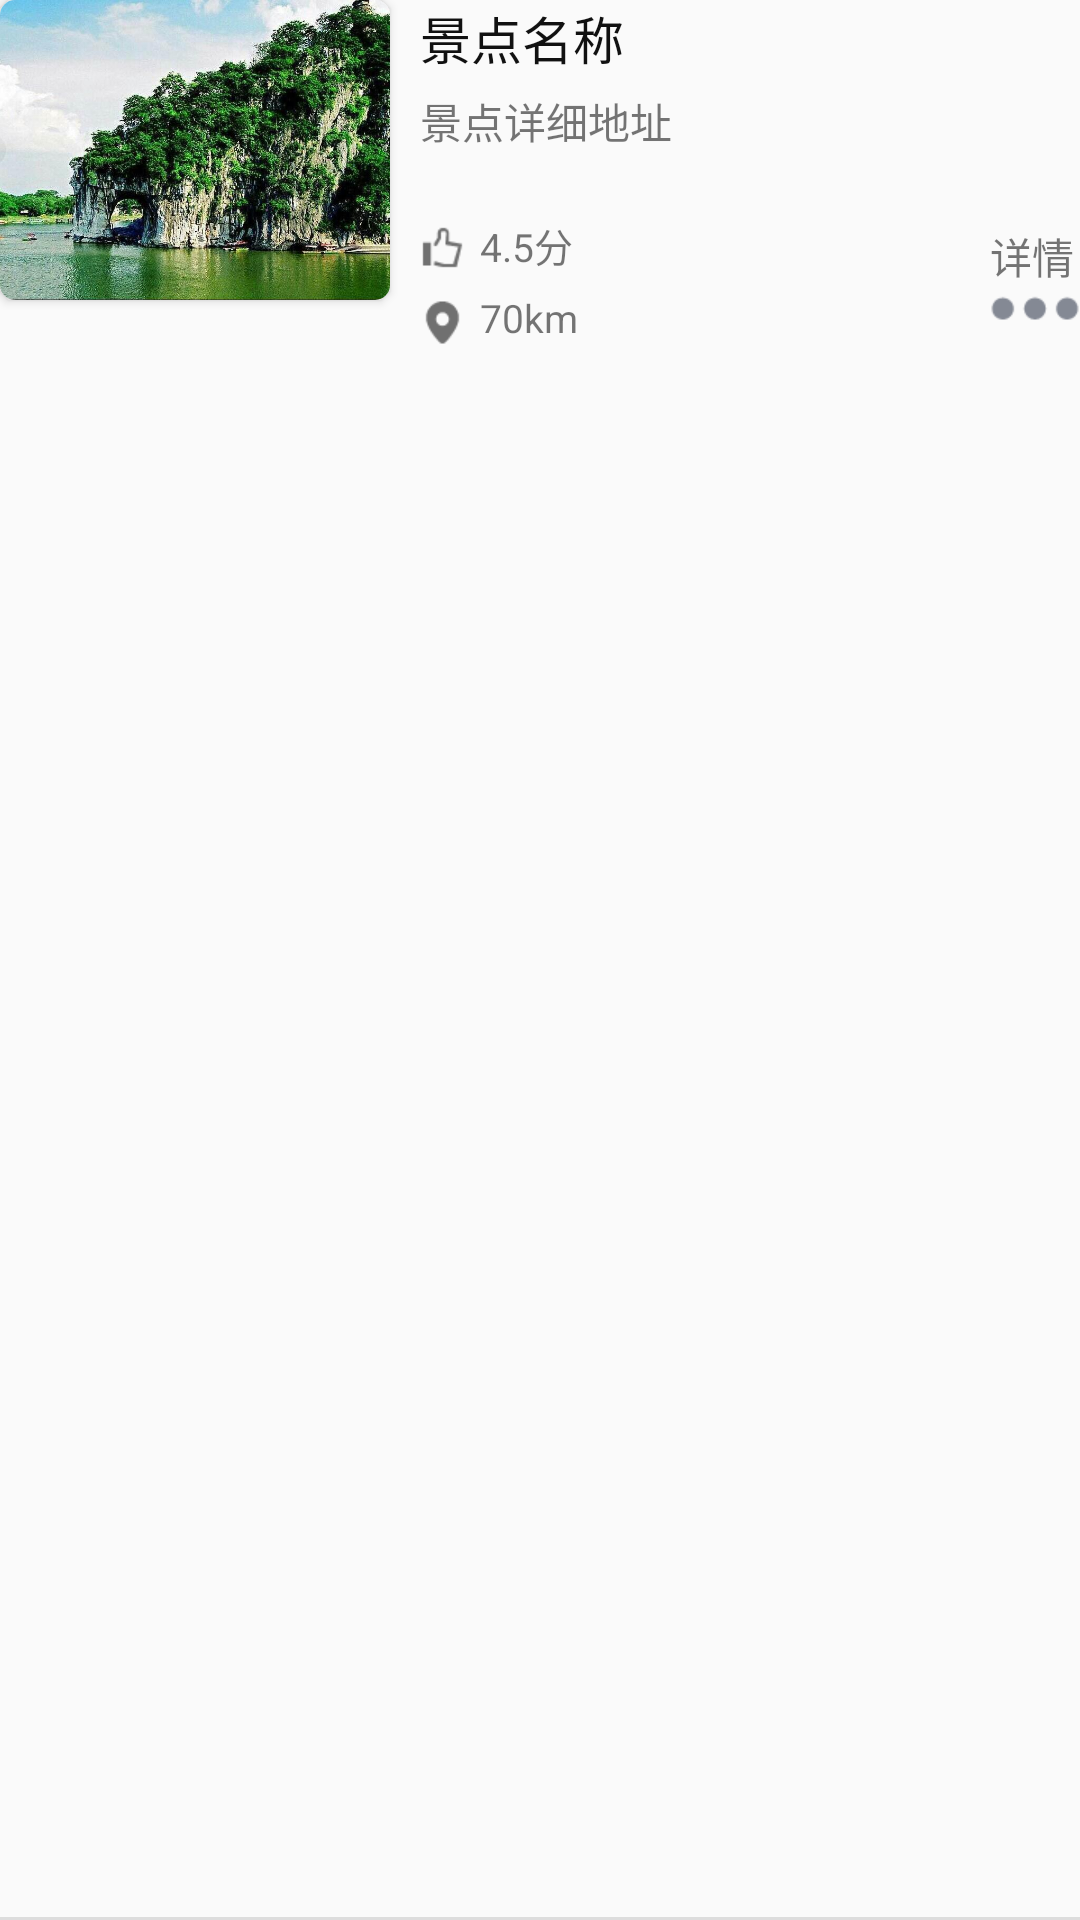

Named icons in this screenshot (1080 x 1920) and their bounding boxes, (x1, y1, x2, y2):
distance viewpoint: (426, 301, 459, 344)
score viewpoint: (423, 228, 462, 267)
